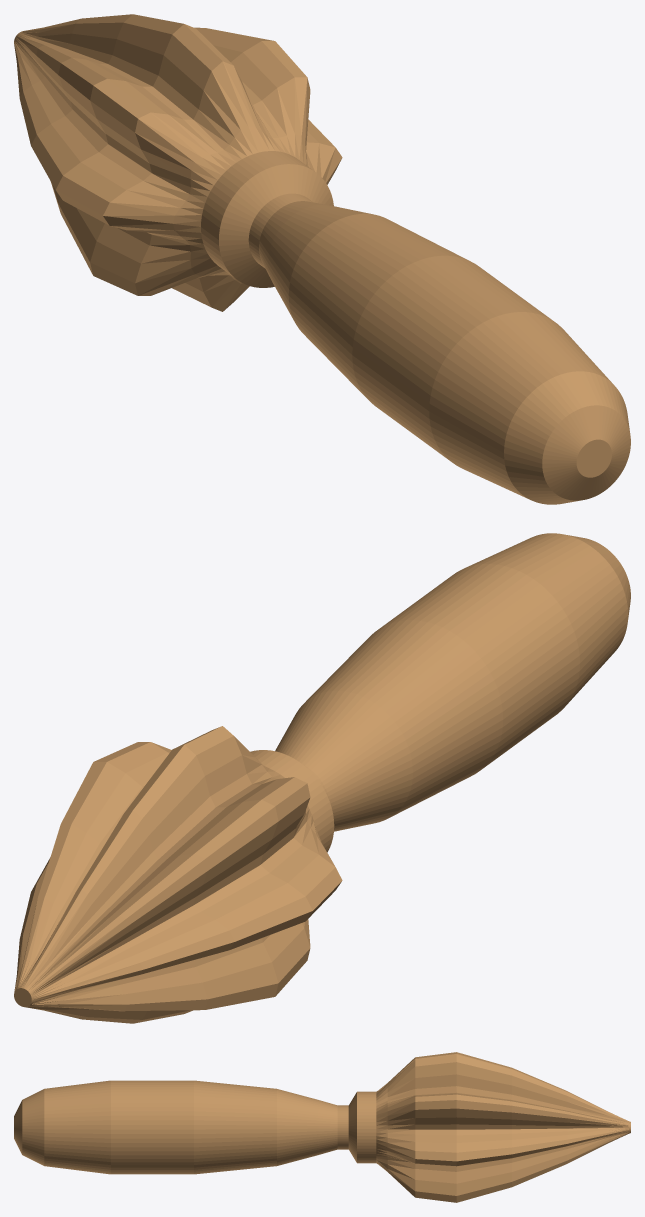
The picture shows the model from 3 angles, top to bottom: view 1: azimuth 30°, elevation 25°; view 2: azimuth 150°, elevation 25°; view 3: azimuth 270°, elevation 25°; orthographic projection. The views are drawn at different scales.
Visible parts, largest first — view 1: WholeContinuousFlutedHeadCollarNeckAndWaistedGrip; view 2: WholeContinuousFlutedHeadCollarNeckAndWaistedGrip; view 3: WholeContinuousFlutedHeadCollarNeckAndWaistedGrip.
Part boxes in pixels (<box>): WholeContinuousFlutedHeadCollarNeckAndWaistedGrip: <box>14,14,630,504</box>; WholeContinuousFlutedHeadCollarNeckAndWaistedGrip: <box>14,533,630,1023</box>; WholeContinuousFlutedHeadCollarNeckAndWaistedGrip: <box>14,1052,630,1202</box>.
Size of the model in its own units: 0.058 by 0.058 by 0.223.
